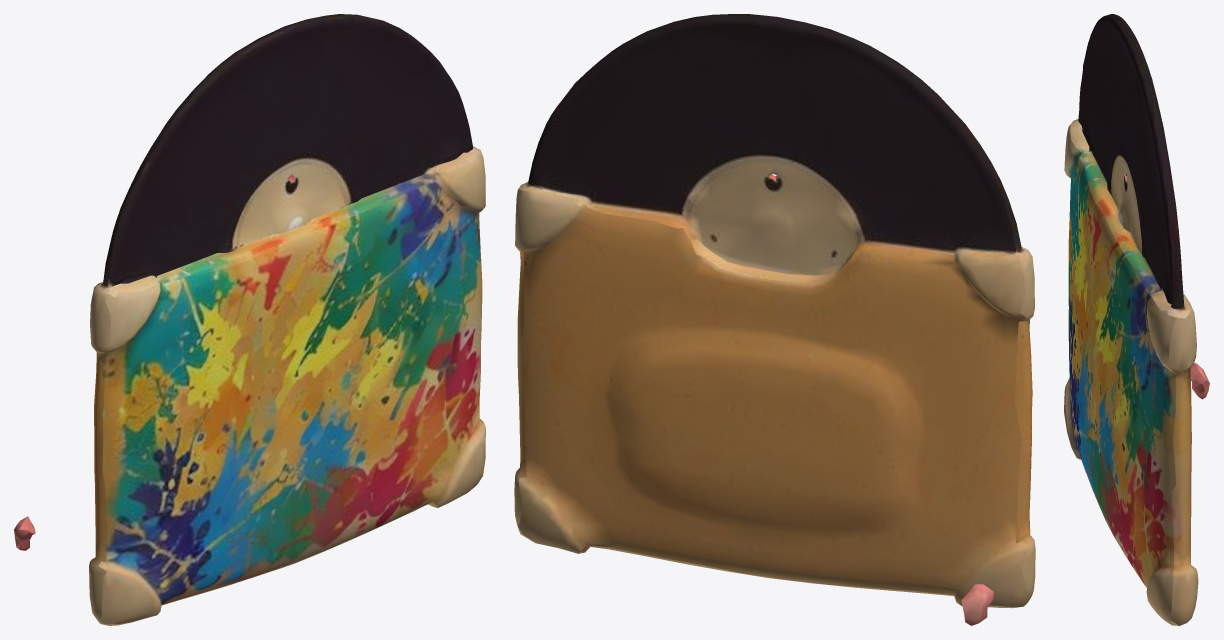
File: record.glb
The picture shows the model from 3 angles, left to right: view 1: azimuth 30°, elevation 25°; view 2: azimuth 150°, elevation 25°; view 3: azimuth 270°, elevation 25°; orthographic projection. The views are drawn at different scales.
Visible parts, largest first — view 1: record_r; view 2: record_r; view 3: record_r.
Part boxes in pixels (<box>): record_r: <box>14,14,485,625</box>; record_r: <box>514,14,1035,625</box>; record_r: <box>1064,14,1209,625</box>.
Bounding box in the file's own units: 0.9037 × 1 × 0.2648.
1 material, 1 textured.
